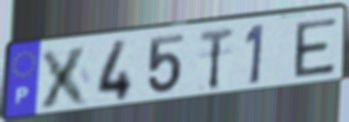1: (242, 21, 266, 87)
4: (95, 37, 136, 105)
5: (147, 33, 188, 97)
E: (293, 15, 340, 80)
T: (198, 25, 236, 93)
X: (37, 42, 93, 111)
